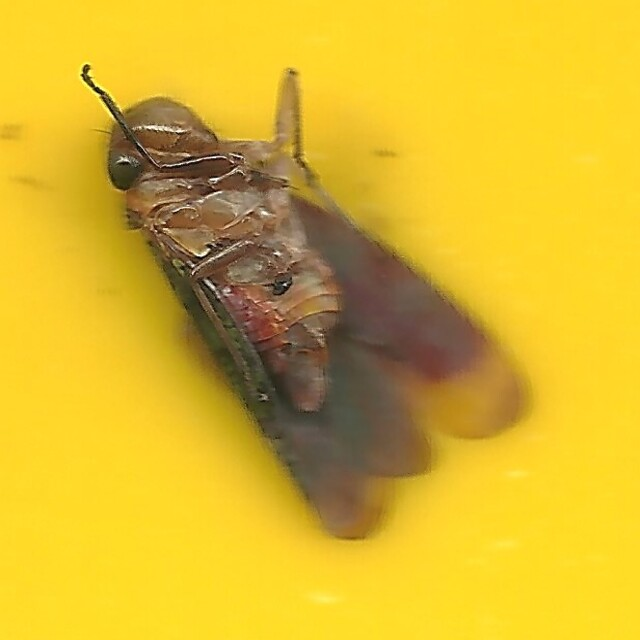Hemiptera: (104, 97, 536, 543)
